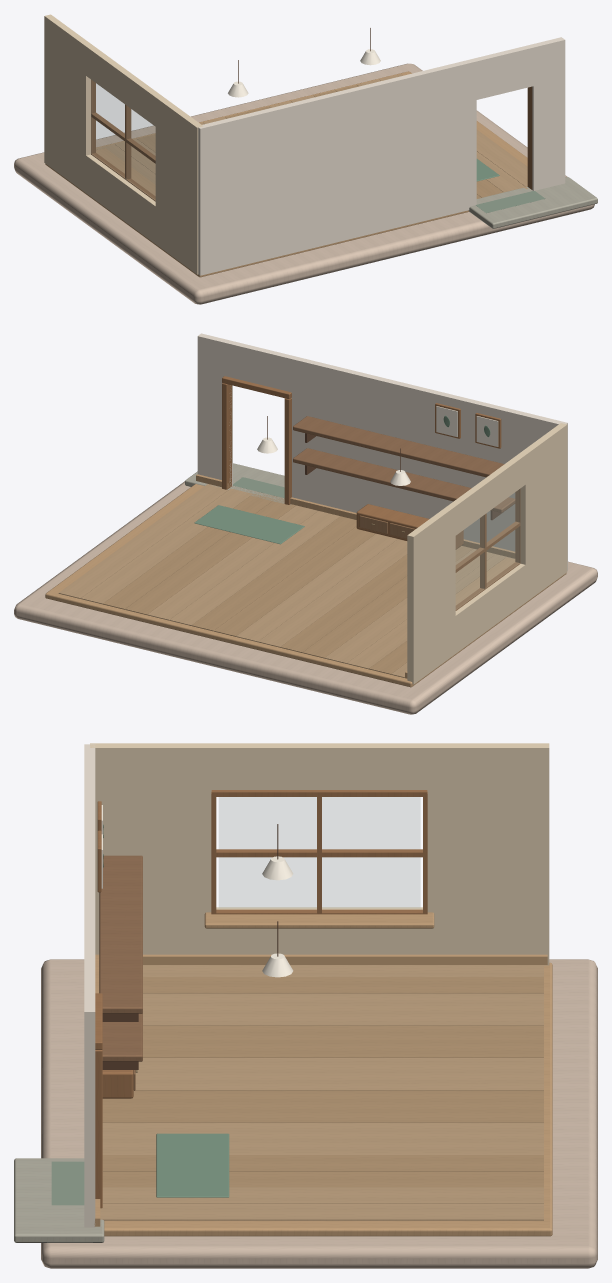
Rendered from room.glb.
3 views of the same model, one above another, from view 1: azimuth 30°, elevation 25°; view 2: azimuth 150°, elevation 25°; view 3: azimuth 270°, elevation 25° (orthographic). The views are drawn at different scales.
Visible parts, largest first — view 1: room; view 2: room; view 3: room.
Boxes of the visible parts, x1,y1,x2,y2 form: room: (14, 14, 597, 304); room: (14, 333, 597, 714); room: (14, 743, 597, 1268).
Size of the model in its own units: 10 by 3.92 by 8.39.
Materials: 21 (8 with a texture image).
